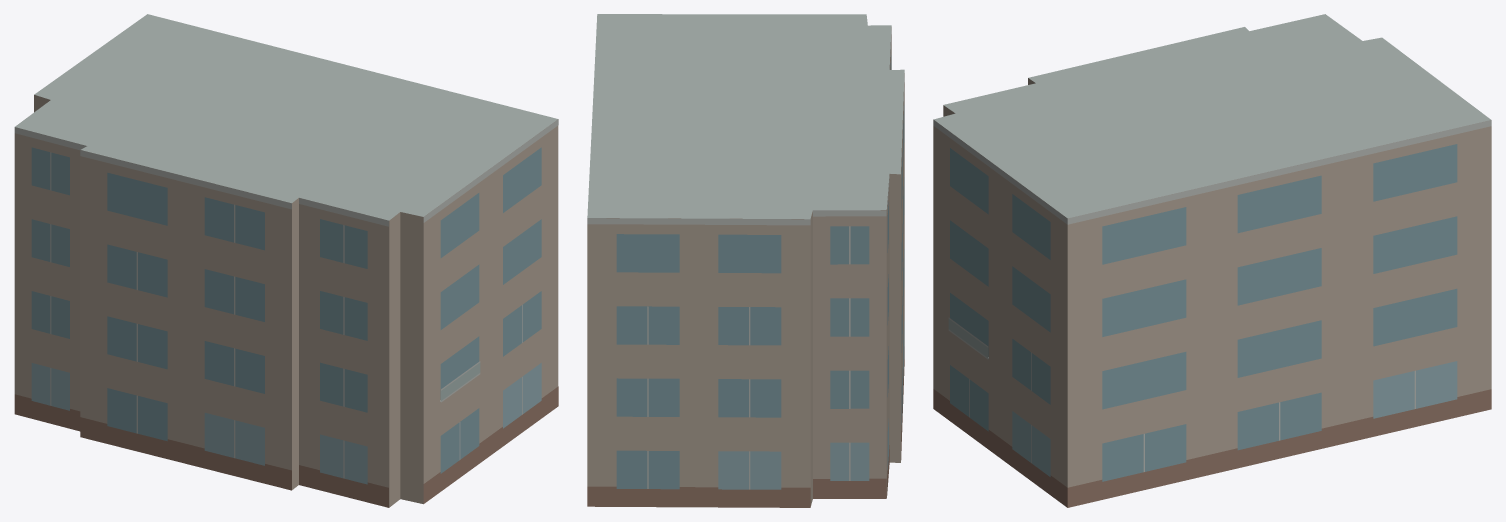
Rendered from survey-upis-33040593.glb.
3 renders of one model, left to right at view 1: azimuth 30°, elevation 25°; view 2: azimuth 150°, elevation 25°; view 3: azimuth 270°, elevation 25°, orthographic.
Parts seen in each view (by area): view 1: survey-upis-33040593.tmp; view 2: survey-upis-33040593.tmp; view 3: survey-upis-33040593.tmp.
Part boxes in pixels (x1=…): survey-upis-33040593.tmp: x1=14, y1=14, x2=558, y2=507; survey-upis-33040593.tmp: x1=587, y1=14, x2=904, y2=507; survey-upis-33040593.tmp: x1=933, y1=14, x2=1491, y2=507.
Bounding box in the file's own units: 17.13 × 11.3 × 19.76.
